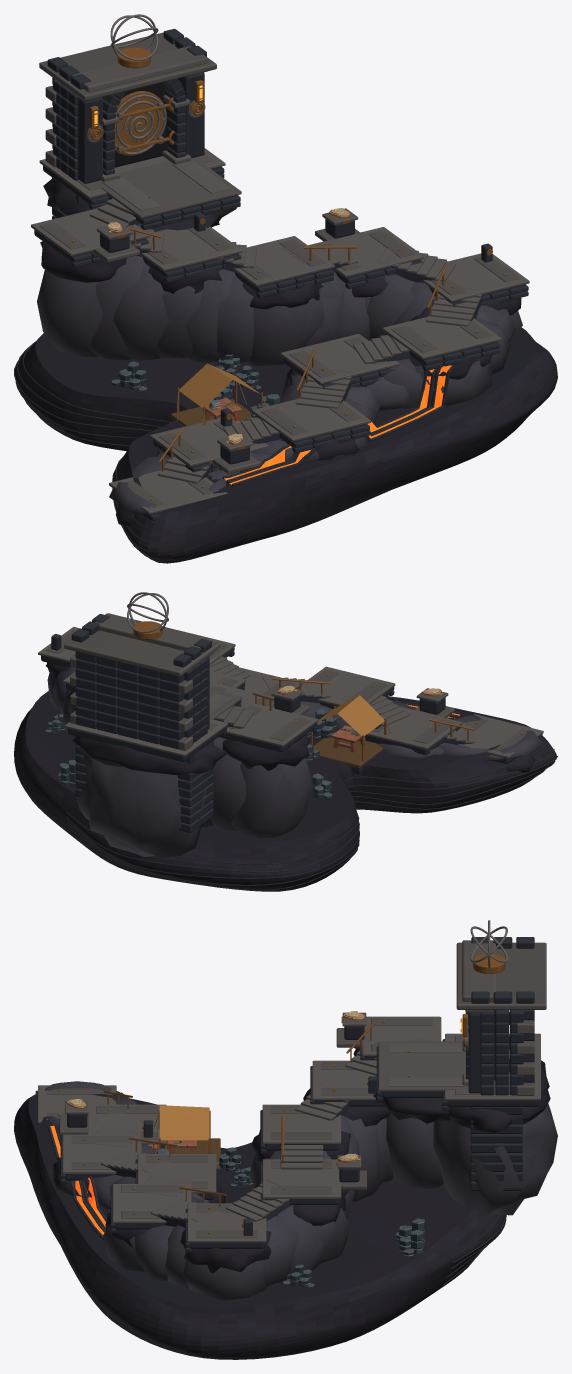
File: vulkara.glb
The picture shows the model from 3 angles, top to bottom: view 1: azimuth 30°, elevation 25°; view 2: azimuth 150°, elevation 25°; view 3: azimuth 270°, elevation 25°; orthographic projection. The views are drawn at different scales.
Parts seen in each view (by area): view 1: static_mineral, static_metal, static_organic, static_luminous; view 2: static_mineral, static_organic, static_metal; view 3: static_mineral, static_organic, static_metal, static_luminous.
Part boxes in pixels (left/top/right/bottom): static_mineral: left=14, top=28, right=557, bottom=563; static_metal: left=72, top=14, right=506, bottom=500; static_organic: left=170, top=363, right=266, bottom=428; static_luminous: left=94, top=85, right=451, bottom=484; static_mineral: left=14, top=613, right=557, bottom=891; static_organic: left=310, top=695, right=391, bottom=768; static_metal: left=61, top=592, right=523, bottom=741; static_mineral: left=14, top=937, right=557, bottom=1359; static_organic: left=154, top=1105, right=220, bottom=1169; static_metal: left=58, top=920, right=507, bottom=1233; static_luminous: left=50, top=1018, right=462, bottom=1234.
Size of the model in its own units: 22.47 by 14.1 by 21.79.
